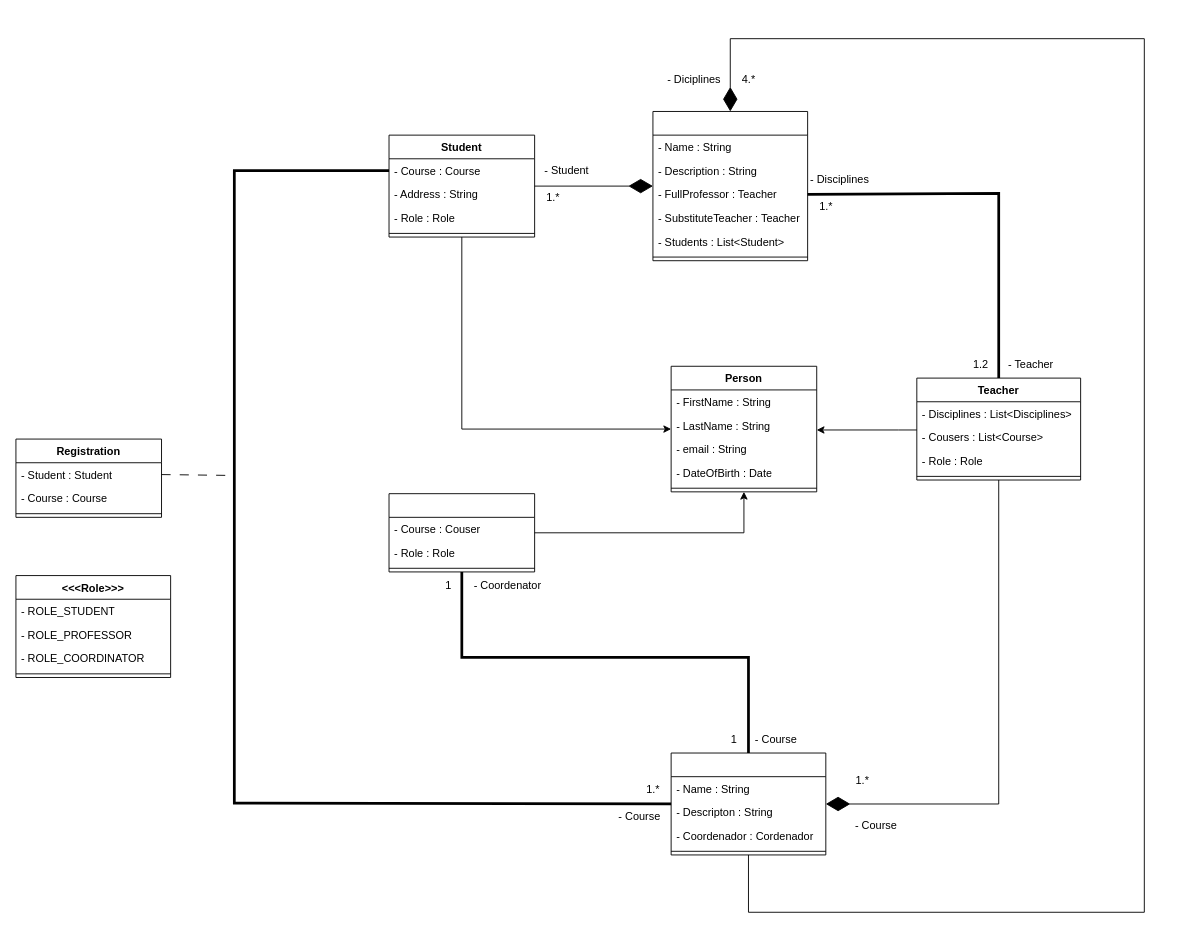
Some shapes in this 1184 by 952 pixel diagram are drawn without their labels. Each missing label, with the box of its shape:
Coordinator: (388, 493, 535, 572)
Course: (670, 752, 826, 855)
Disciplines: (652, 111, 808, 261)
